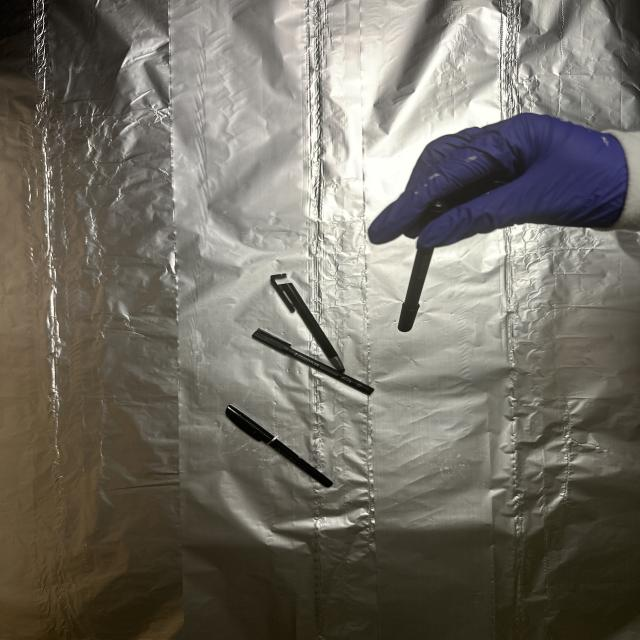gloves_contaminated: (369, 114, 628, 247)
